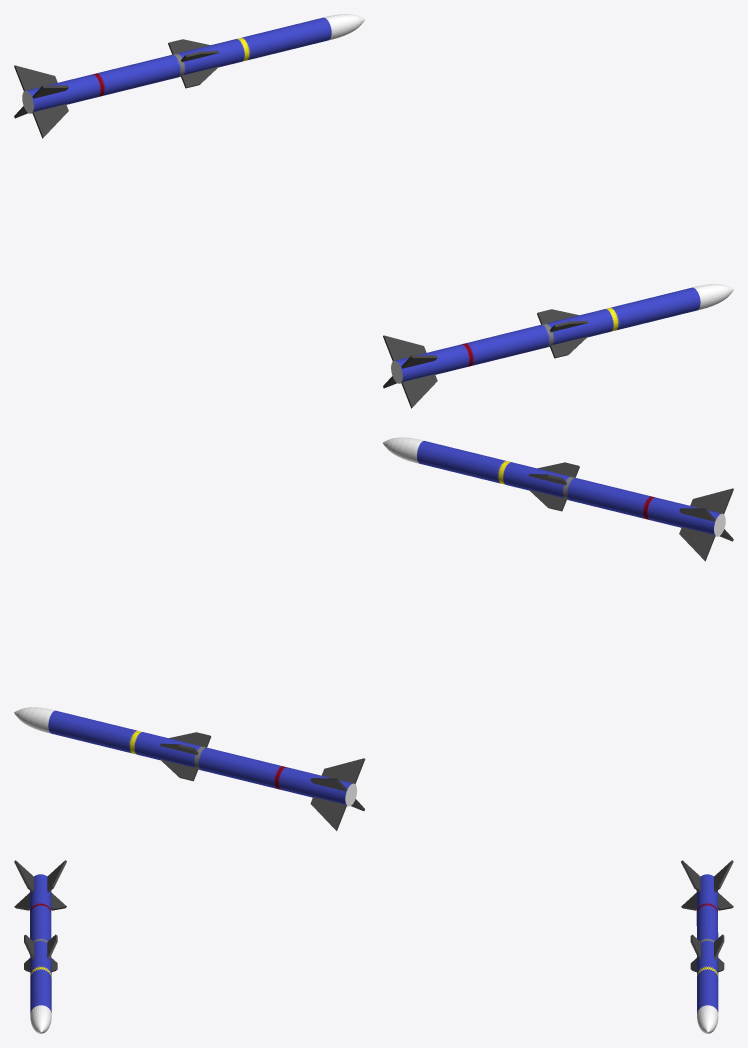
File: aam4df2a25.glb
3 views of the same model, one above another, from view 1: azimuth 30°, elevation 25°; view 2: azimuth 150°, elevation 25°; view 3: azimuth 270°, elevation 25° (orthographic). The views are drawn at different scales.
Parts seen in each view (by area): view 1: 球.001, 球.004; view 2: 球.004, 球.001; view 3: 球.001, 球.004.
Boxes of the visible parts, left/top/right/bottom form: 球.001: left=14, top=14, right=364, bottom=138; 球.004: left=383, top=284, right=733, bottom=408; 球.004: left=383, top=437, right=733, bottom=561; 球.001: left=14, top=707, right=365, bottom=830; 球.001: left=681, top=860, right=733, bottom=1033; 球.004: left=14, top=860, right=66, bottom=1033.
Bounding box in the file's own units: 4.82 × 0.7294 × 9.85.
Materials: 3 (1 with a texture image).
